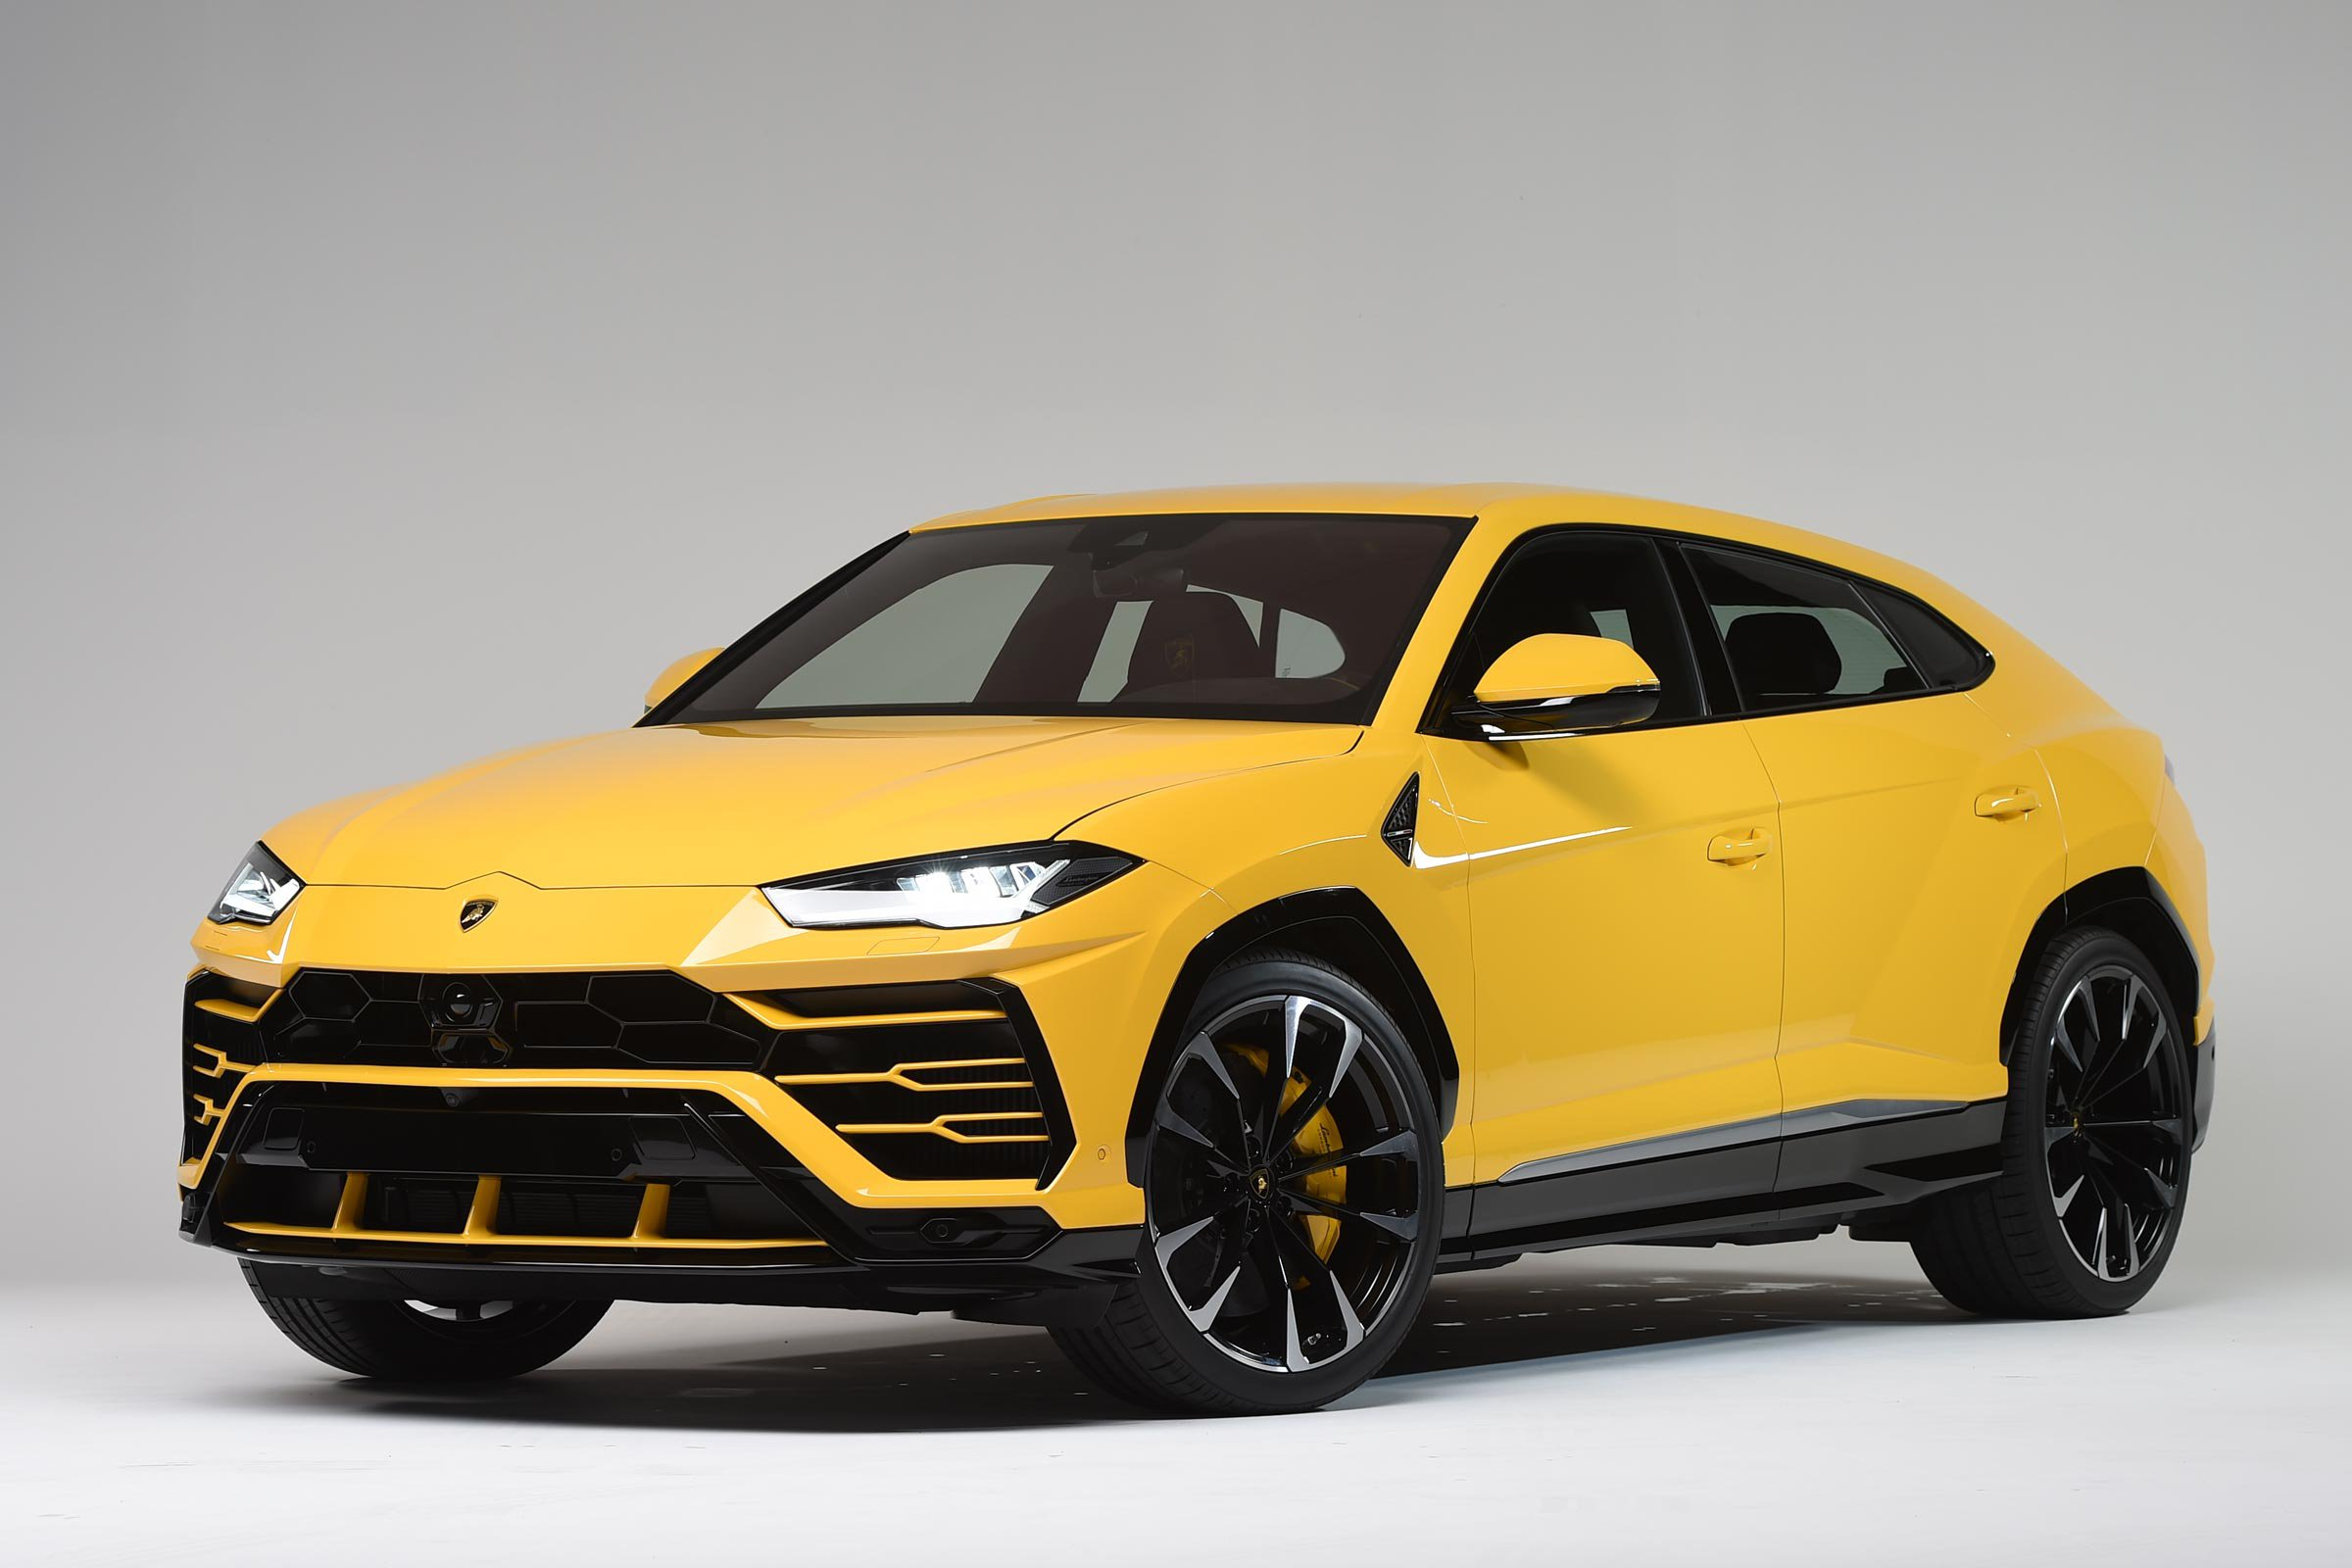car: (173, 423, 2200, 1389)
